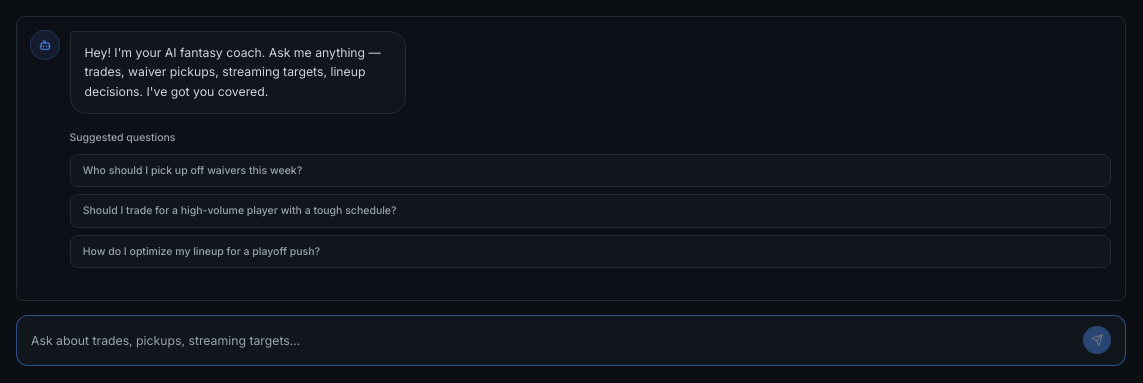
it: the Coach chat client › renders plain-text streams unchanged when the agent is off
The width and height of the screenshot is (1143, 383).
Step 1. Type "How does my team look?" into the field → (552, 340), box x1=31 y1=332 x2=1072 y2=349
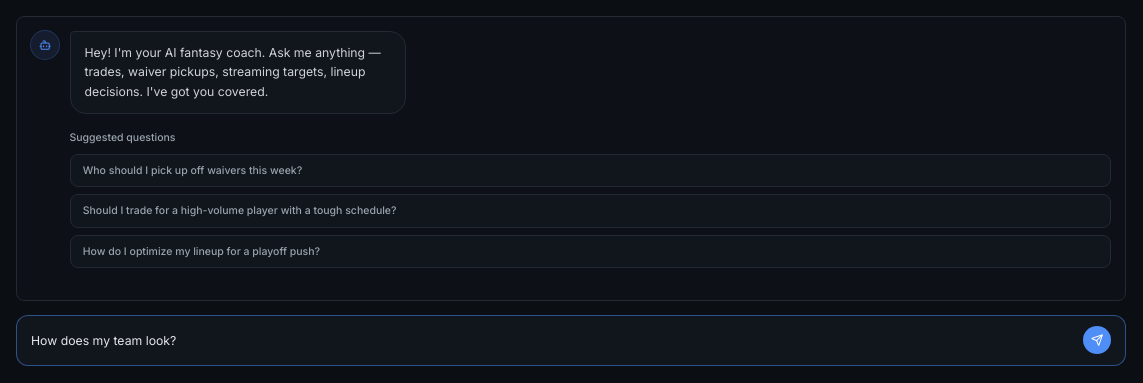
Step 2. Press Enter
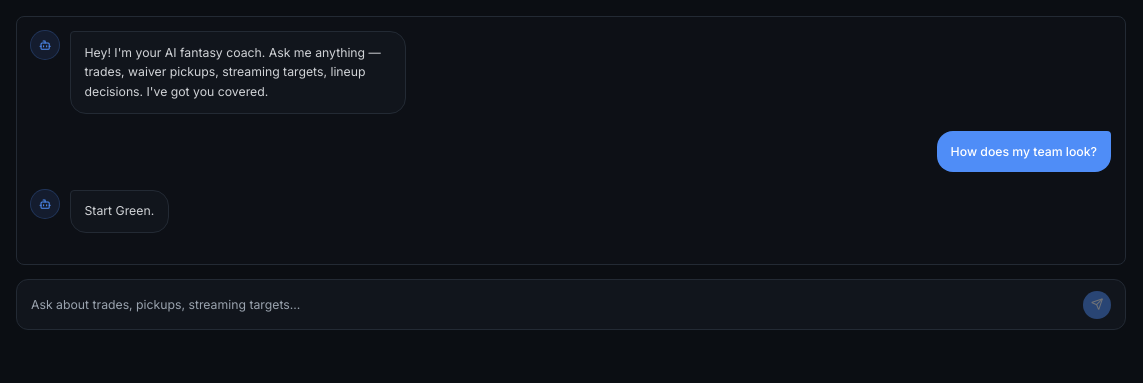
Expected: the text "Start Green." is shown, x1=84 y1=201 x2=154 y2=221
